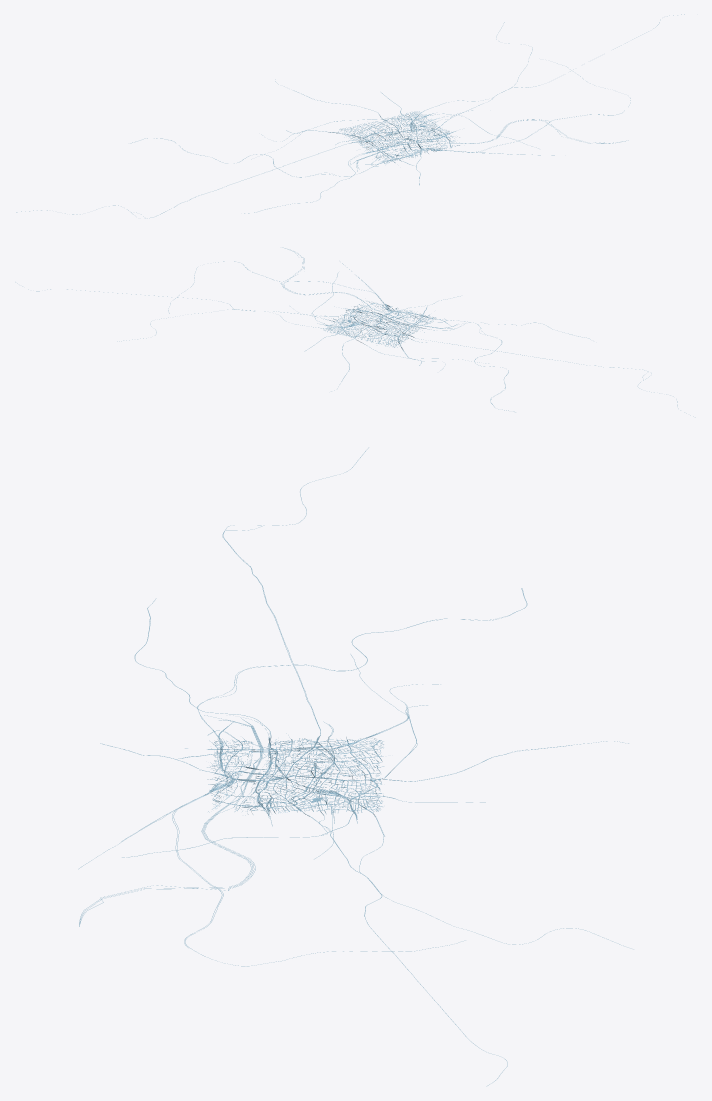
Rendered from roads.glb.
The picture shows the model from 3 angles, top to bottom: view 1: azimuth 30°, elevation 25°; view 2: azimuth 150°, elevation 25°; view 3: azimuth 270°, elevation 25°; orthographic projection. The views are drawn at different scales.
Parts seen in each view (by area): view 1: roads; view 2: roads; view 3: roads.
Boxes of the visible parts, left/top/right/bottom form: roads: left=16, top=14, right=684, bottom=218; roads: left=15, top=247, right=695, bottom=417; roads: left=78, top=447, right=633, bottom=1086.
Size of the model in its own units: 23824 by 61.07 by 8772.
